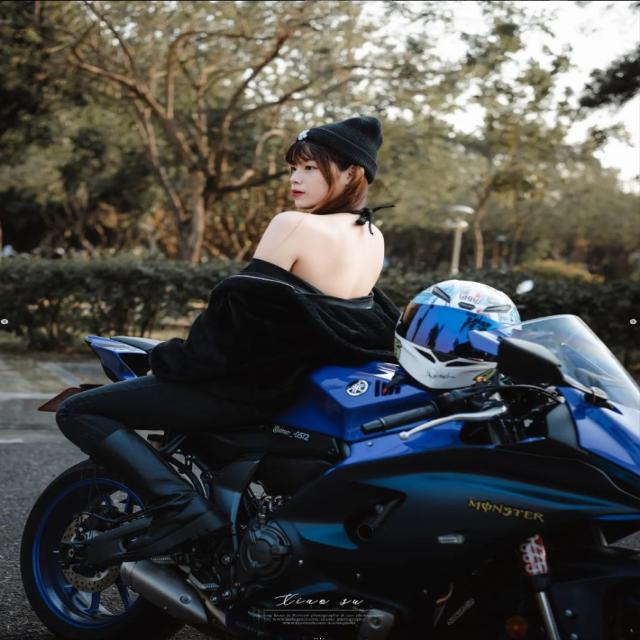illegal_helmet: (282, 113, 388, 212)
